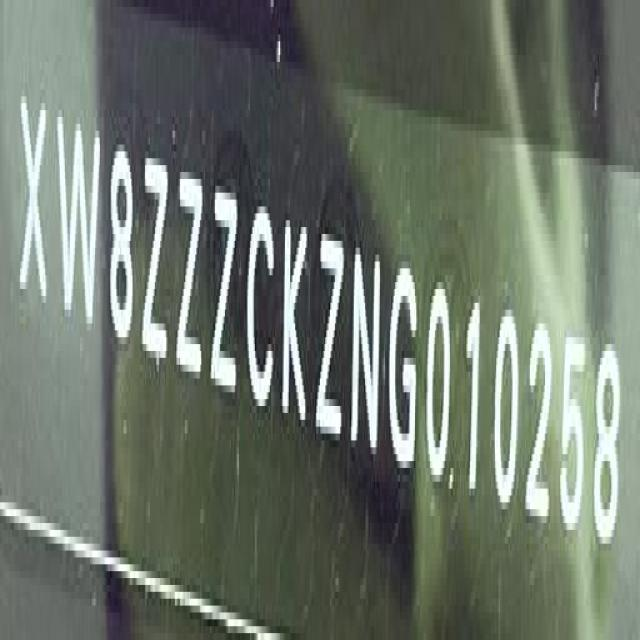0: (494, 294, 522, 518), (426, 273, 454, 492)
1: (466, 283, 483, 505)
2: (527, 314, 554, 534)
5: (560, 322, 588, 542)
8: (596, 337, 623, 554), (111, 137, 136, 356)
C: (247, 191, 276, 420)
G: (391, 248, 421, 475)
K: (281, 204, 309, 434)
N: (350, 234, 382, 466)
W: (54, 100, 102, 336)
X: (19, 80, 51, 322)
Z: (316, 217, 345, 454), (211, 176, 240, 404), (141, 144, 168, 377), (179, 156, 205, 395)
